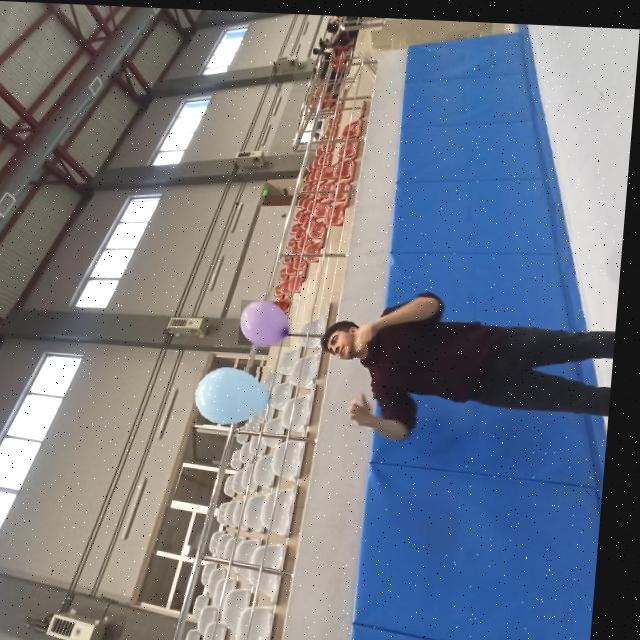balloon: (198, 361, 280, 423), (244, 296, 299, 343)
